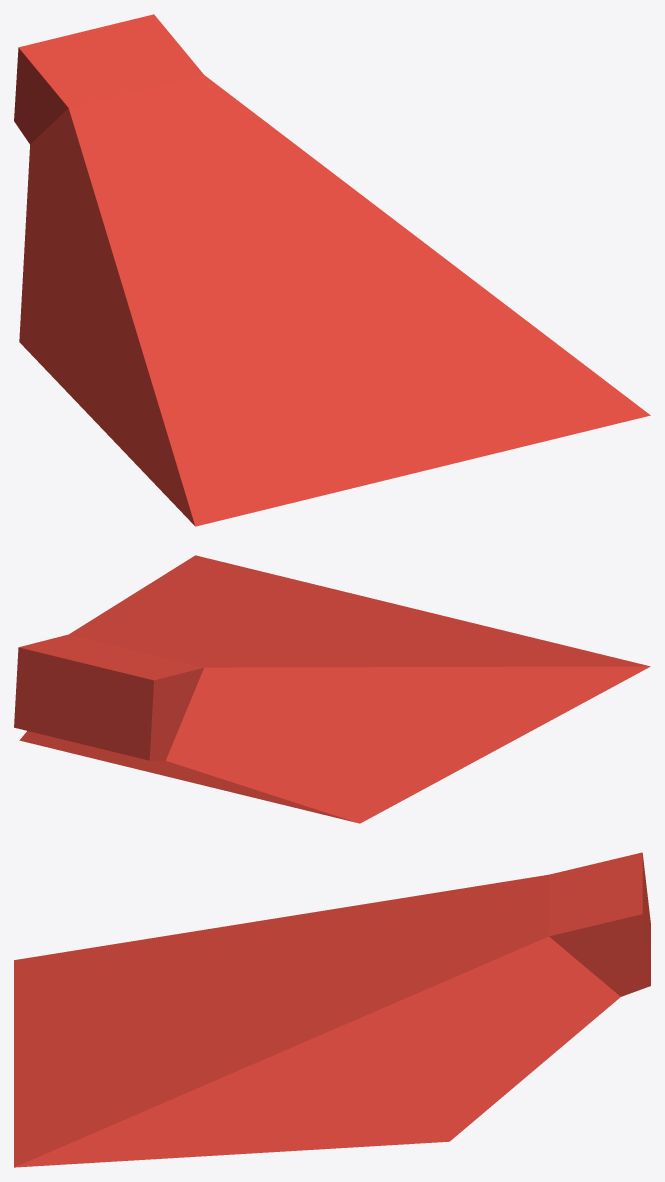
The model's file is VacuumIndicator.fbx.
3 renders of one model, top to bottom at view 1: azimuth 30°, elevation 25°; view 2: azimuth 150°, elevation 25°; view 3: azimuth 270°, elevation 25°, orthographic. The views are drawn at different scales.
Parts seen in each view (by area): view 1: Cylinder.002; view 2: Cylinder.002; view 3: Cylinder.002.
Boxes of the visible parts, x1,y1,x2,y2 form: Cylinder.002: (14,14,650,526); Cylinder.002: (14,555,650,823); Cylinder.002: (14,852,650,1167).
Bounding box in the file's own units: 654 × 266 × 849.
